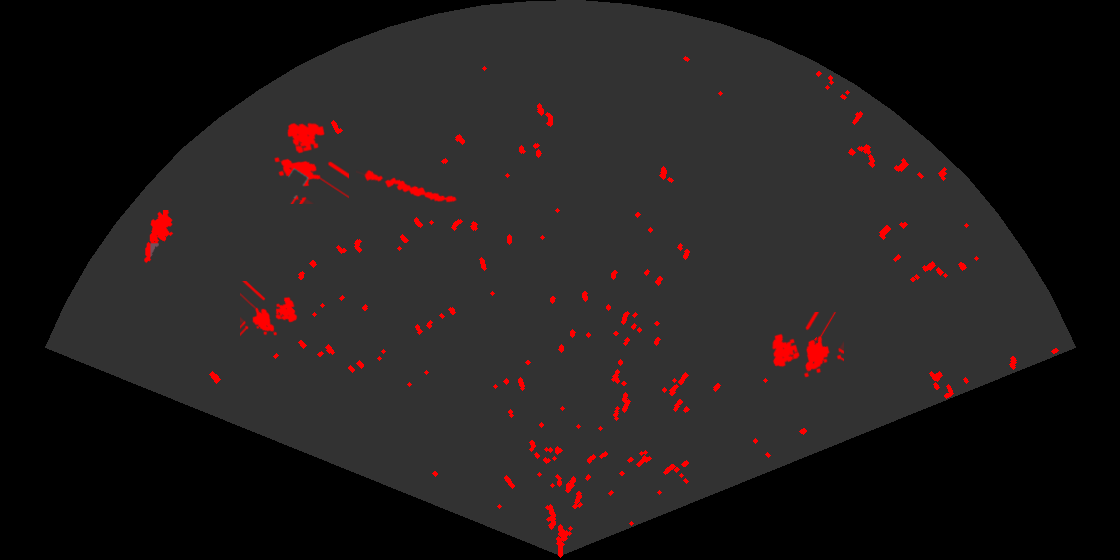cage: (273, 121, 349, 204), (770, 312, 844, 379), (240, 281, 299, 338)
chain: (356, 168, 459, 204)
frogman: (143, 210, 175, 264)
